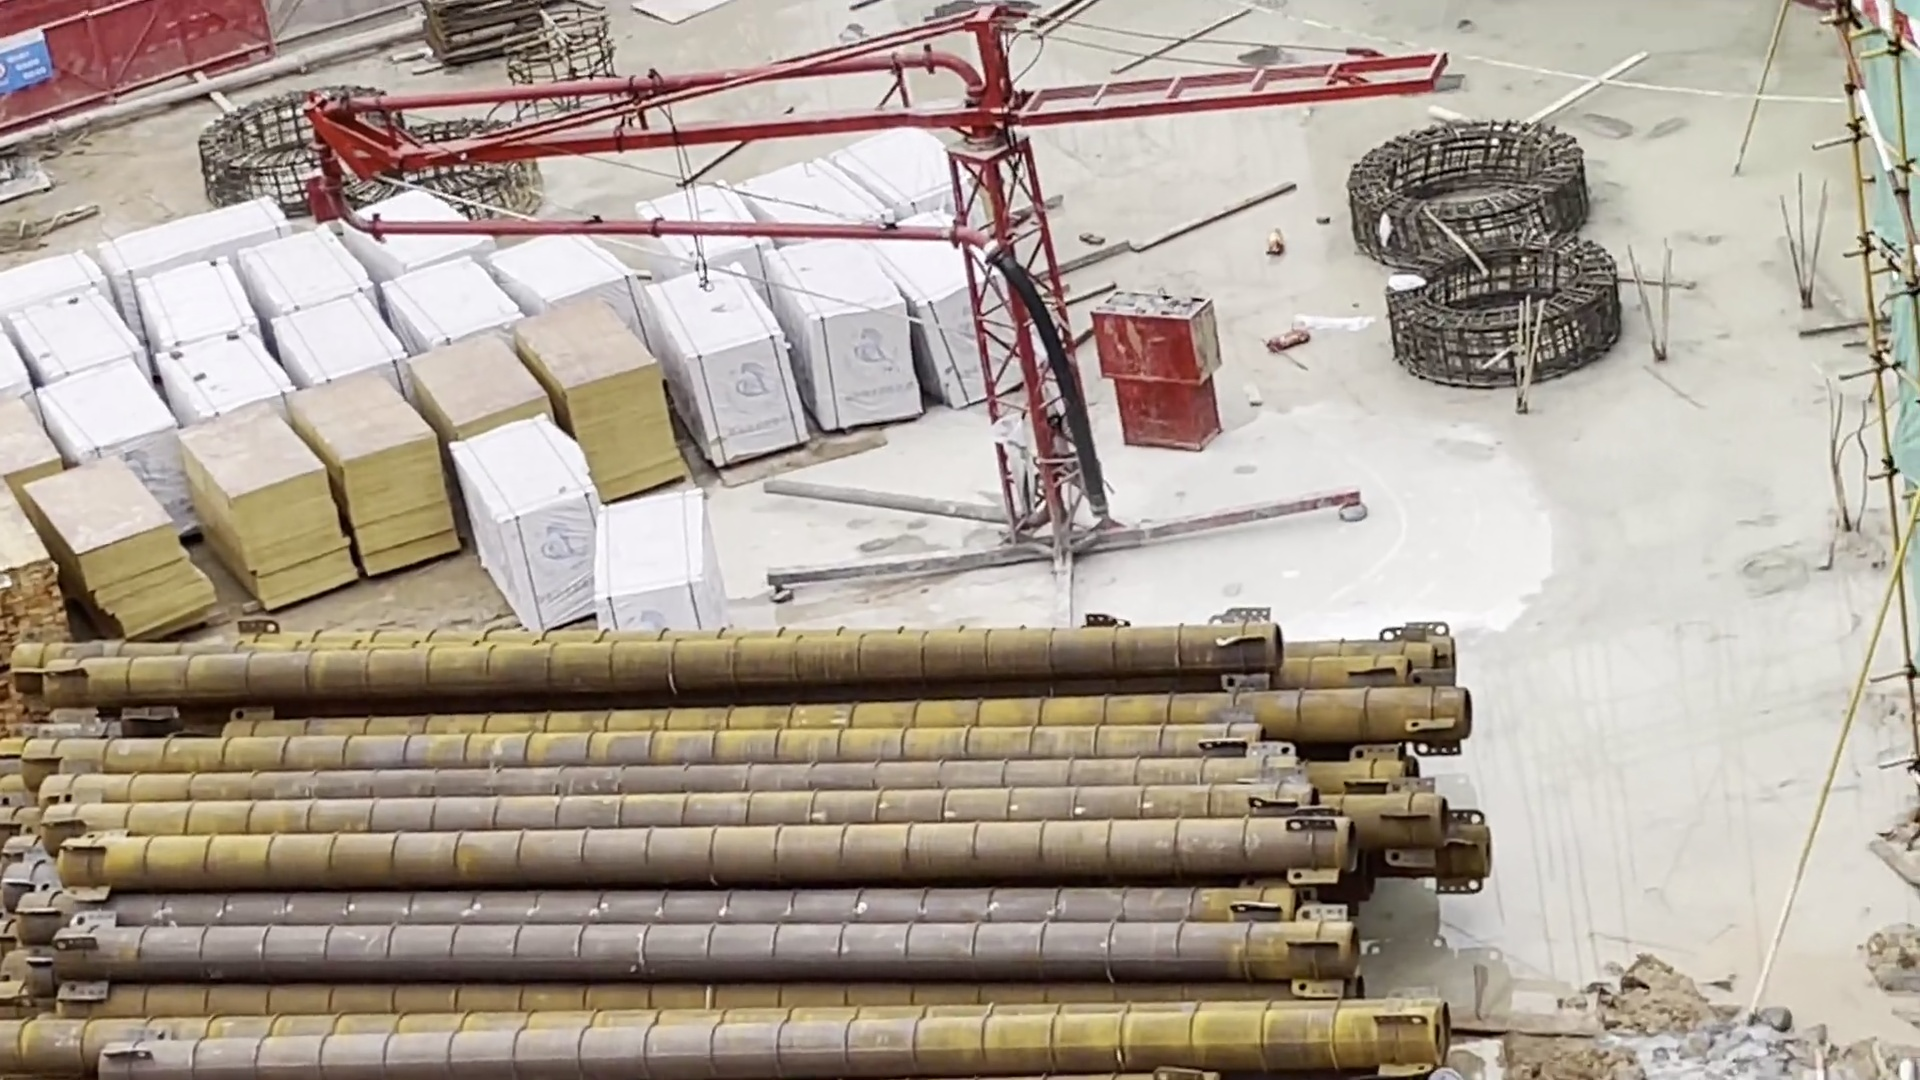board: (4, 397, 468, 628), (327, 305, 771, 506)
fence: (1, 3, 269, 149)
slogan: (1, 18, 65, 104)
wood: (1, 469, 76, 696)
